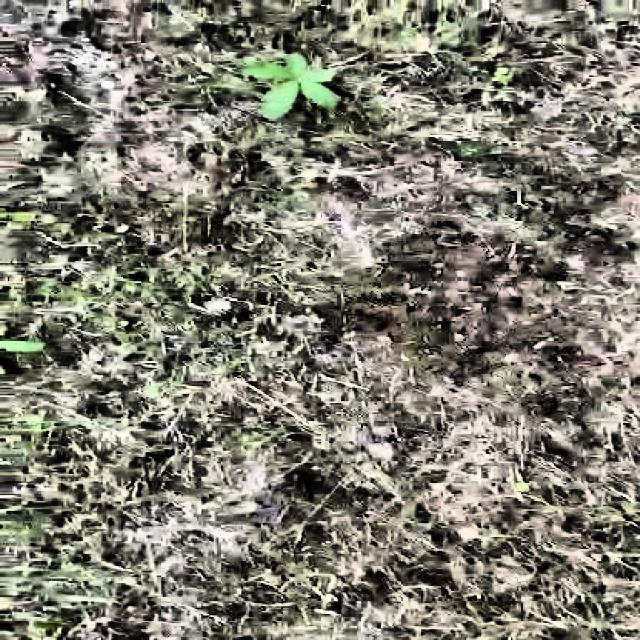Weeds: (245, 50, 342, 118)
